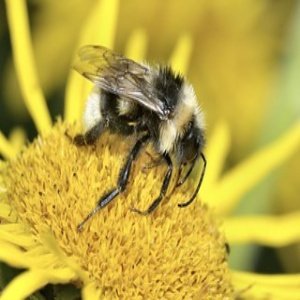bee: (68, 43, 207, 229)
